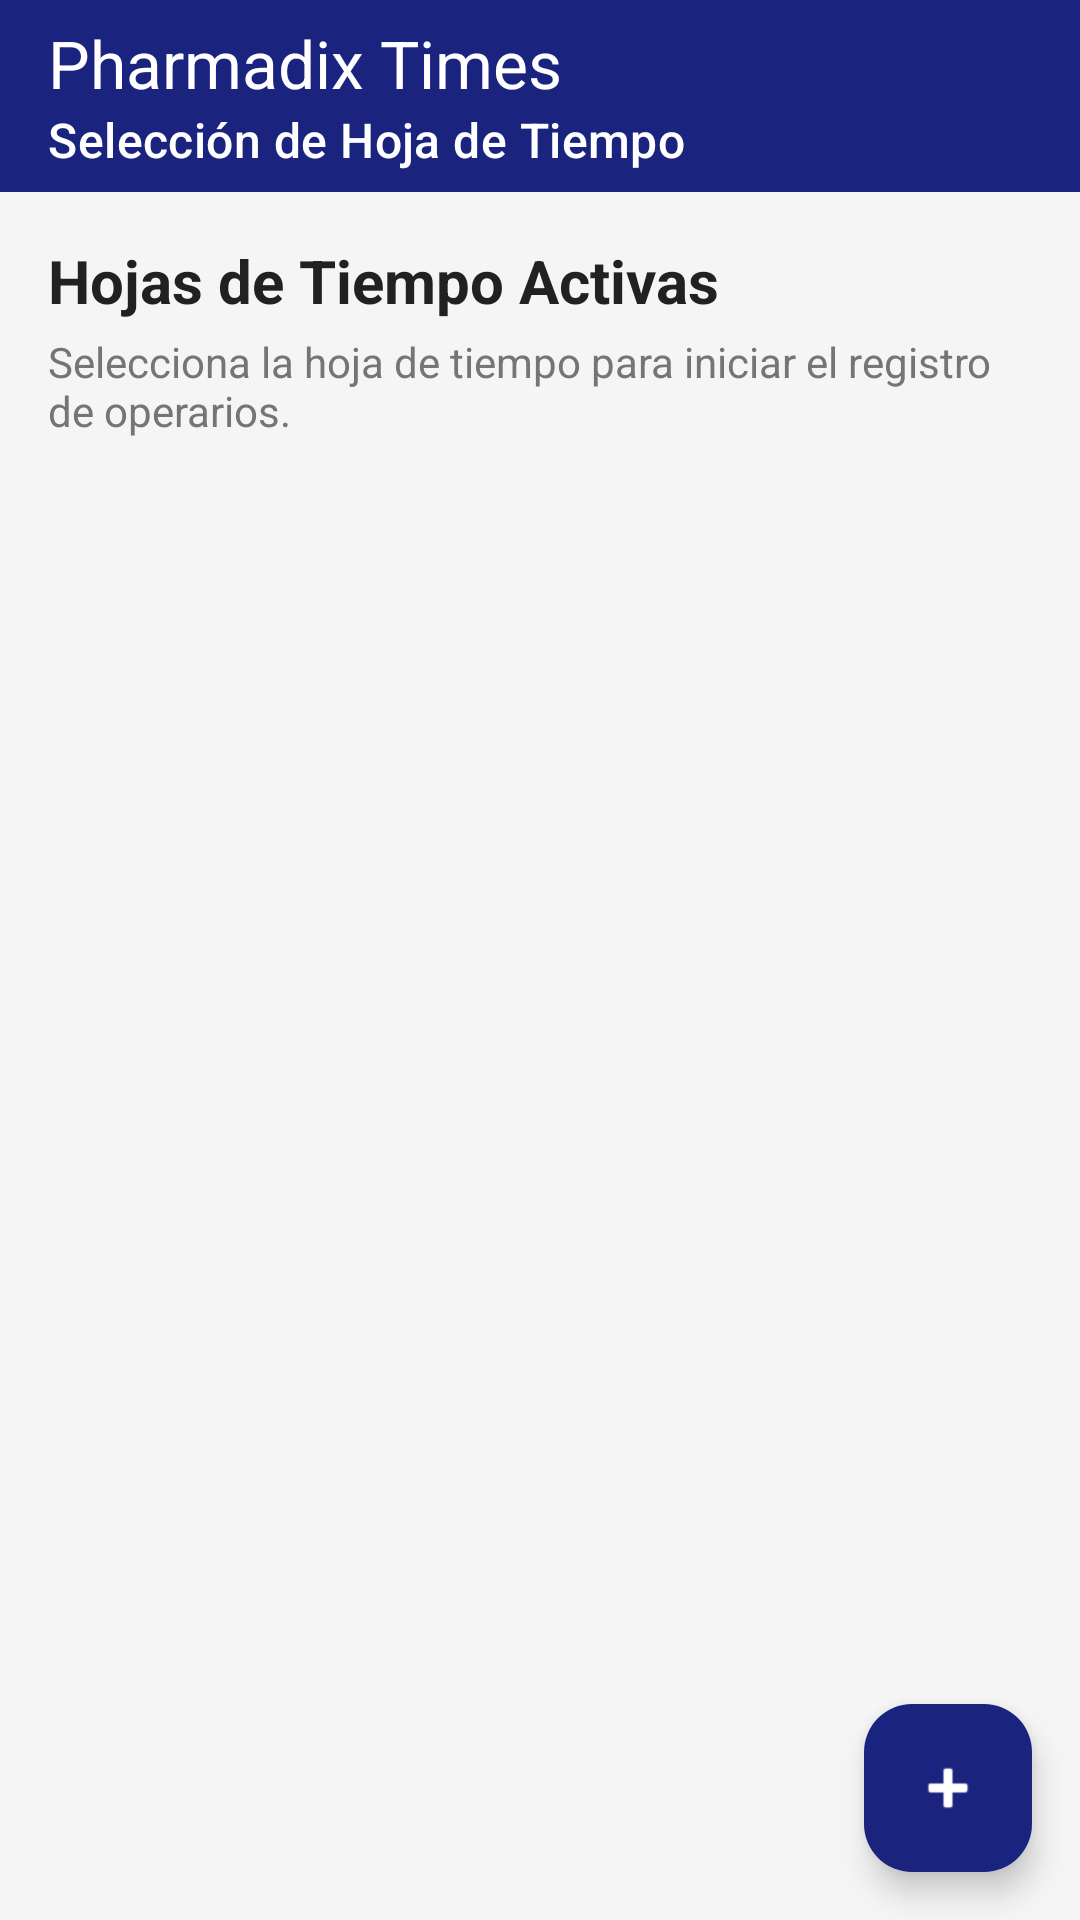

Icons on this 1080w x 1920h Android screen, each with its box as (x1, y1, x2, y2):
Nueva Hoja: (864, 1704, 1032, 1872)
